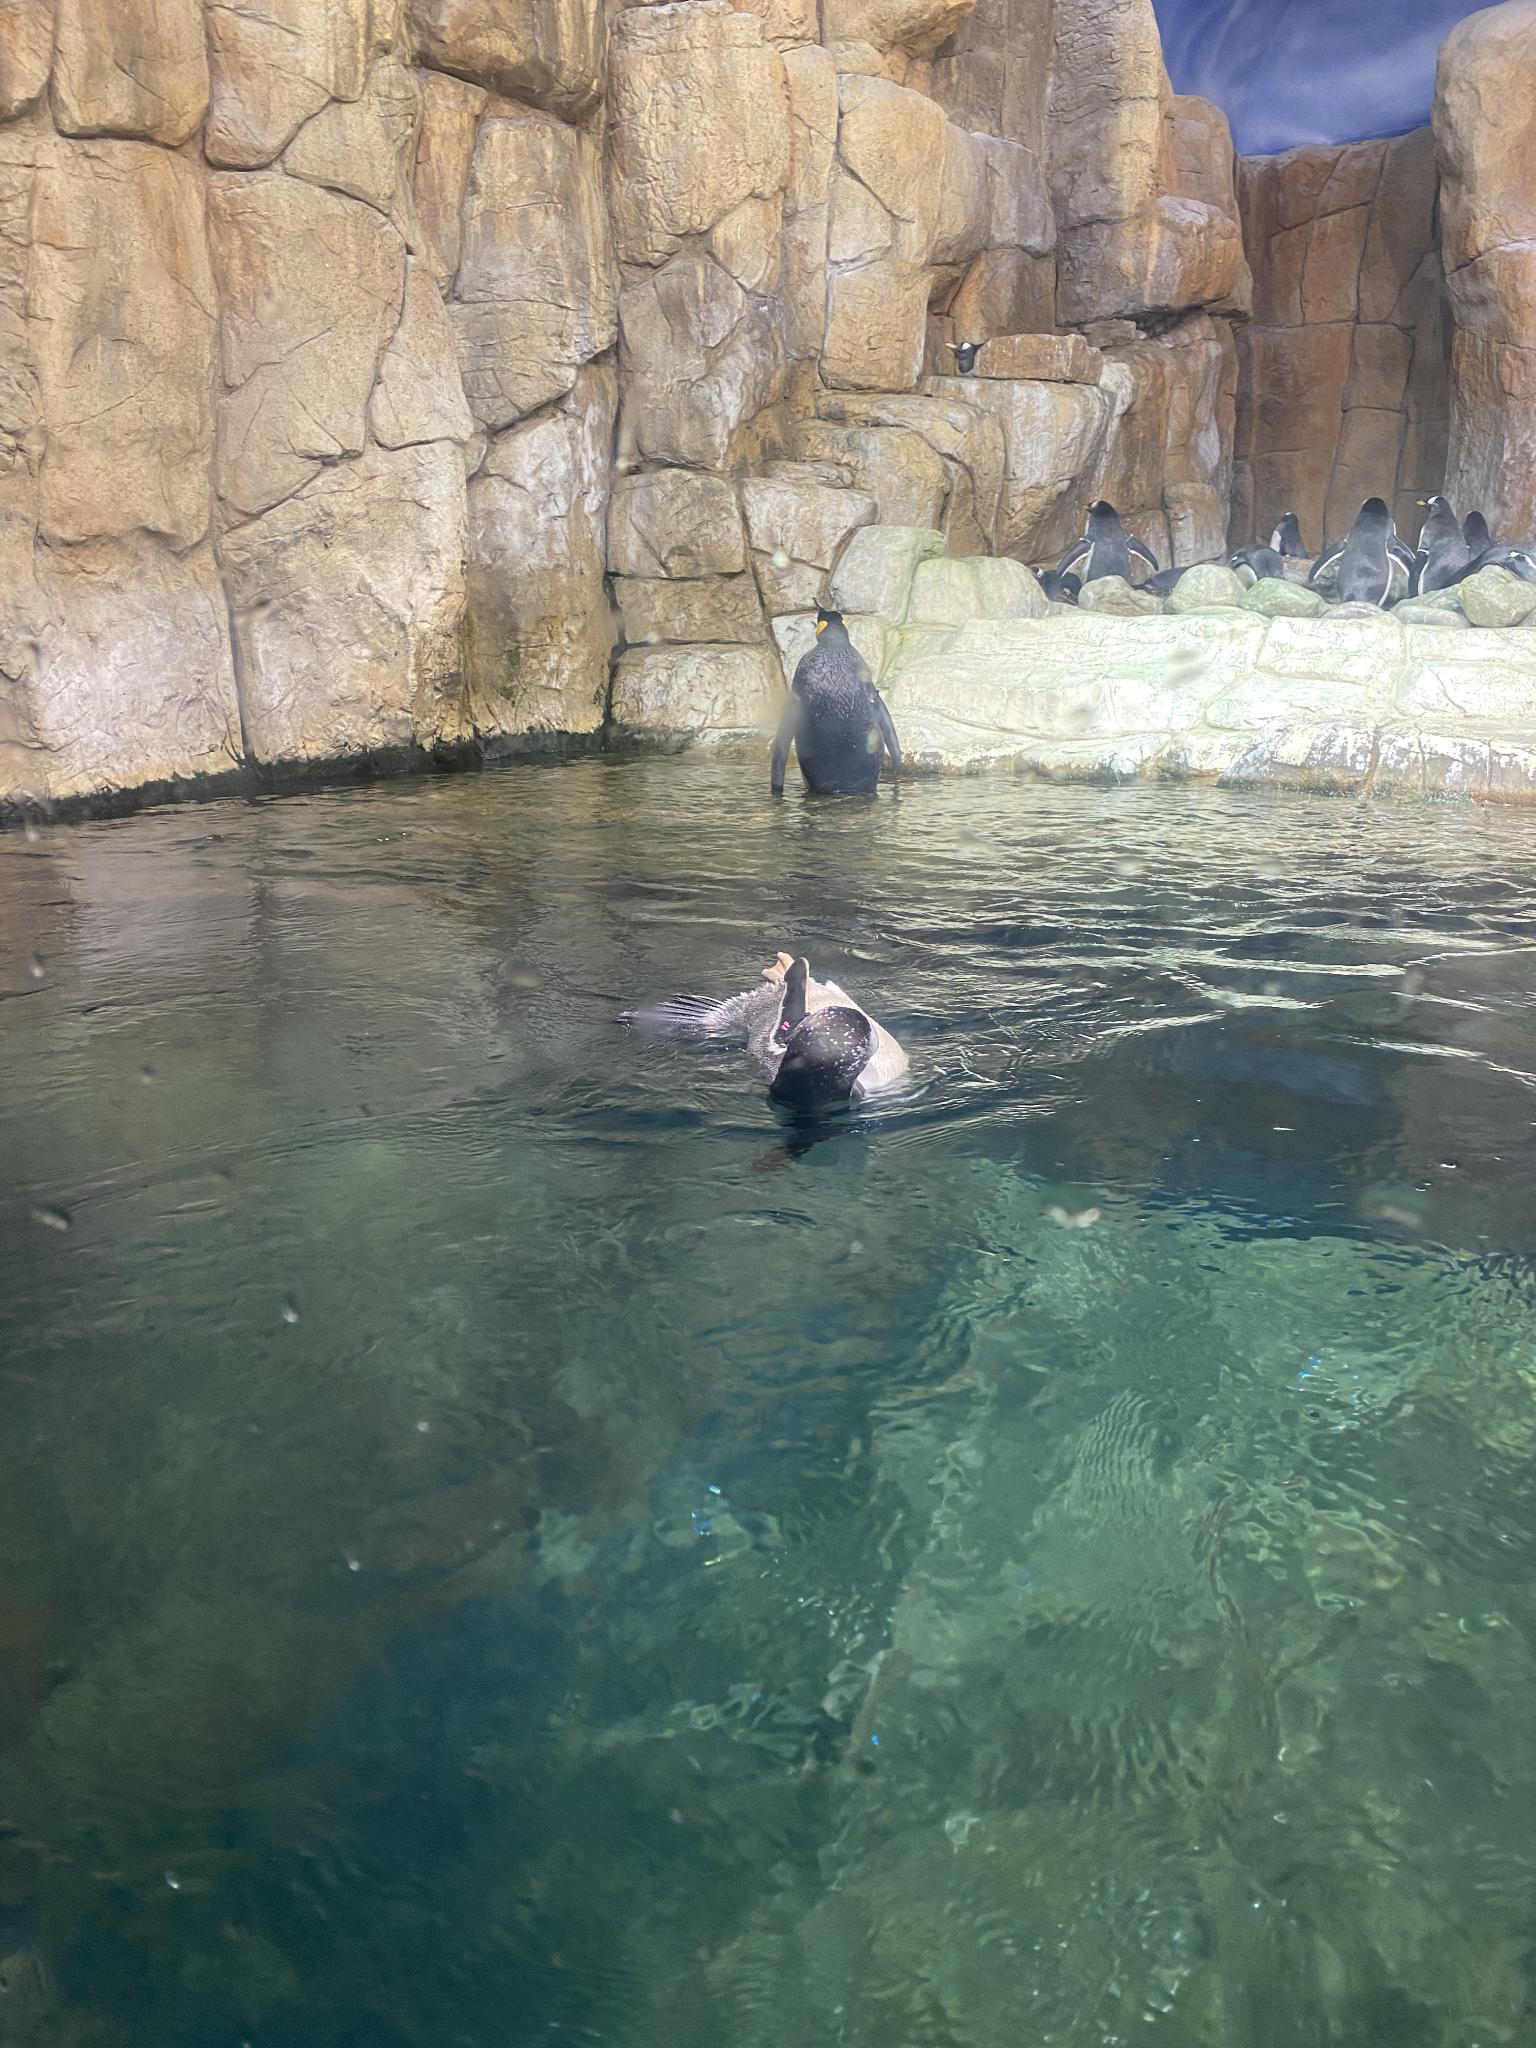penguin: (699, 951, 916, 1134), (758, 589, 913, 826), (1320, 485, 1413, 619), (1062, 489, 1154, 605), (1404, 482, 1460, 601), (941, 327, 1016, 395), (1460, 503, 1505, 590), (1252, 510, 1310, 560)
